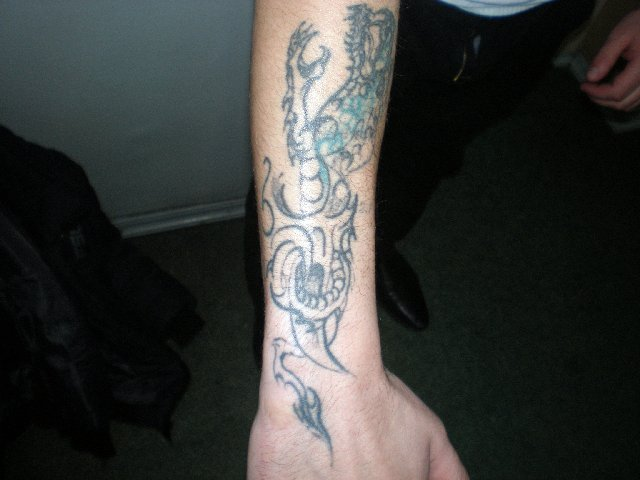tatu6_drakon: (252, 3, 400, 473)
